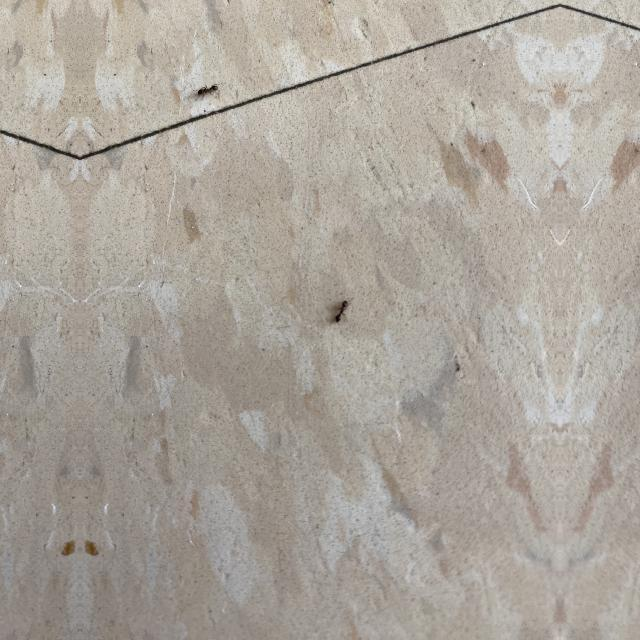Tetramorium: (332, 290, 360, 326), (192, 75, 222, 102)
